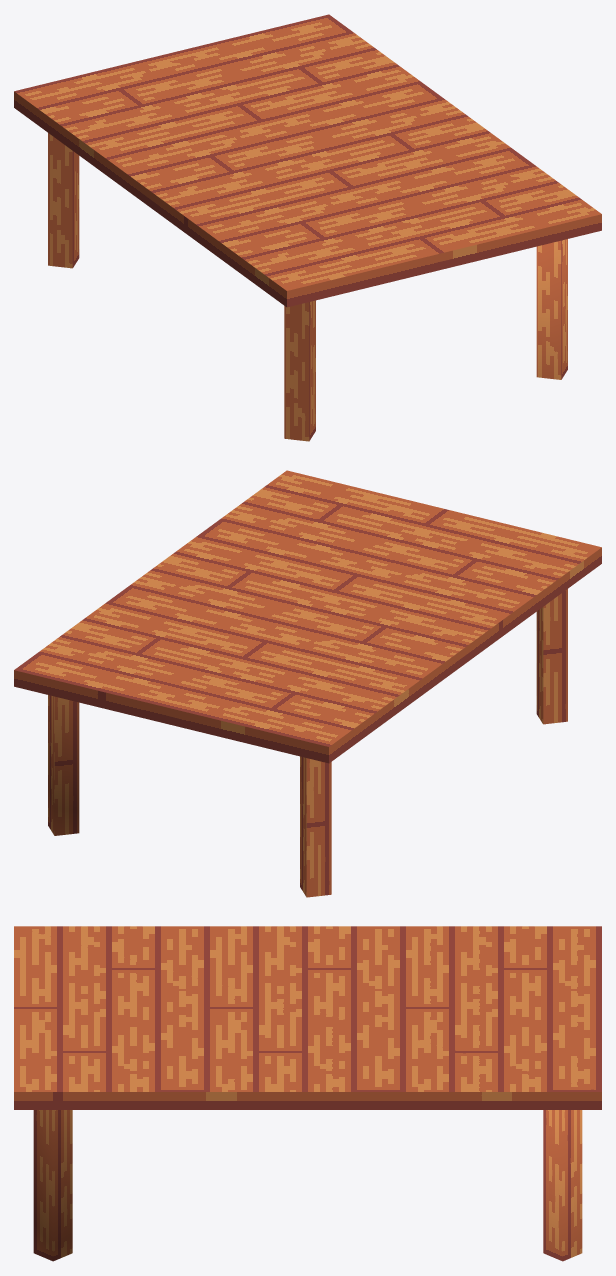
The model's file is table big.fbx.
The picture shows the model from 3 angles, top to bottom: view 1: azimuth 30°, elevation 25°; view 2: azimuth 150°, elevation 25°; view 3: azimuth 270°, elevation 25°; orthographic projection. The views are drawn at different scales.
Visible parts, largest first — view 1: Table big; view 2: Table big; view 3: Table big.
Boxes of the visible parts, x1=… form: Table big: x1=14, y1=14, x2=601, y2=441; Table big: x1=14, y1=470, x2=601, y2=897; Table big: x1=14, y1=926, x2=601, y2=1261.
Bounding box in the file's own units: 200 × 100 × 300.
